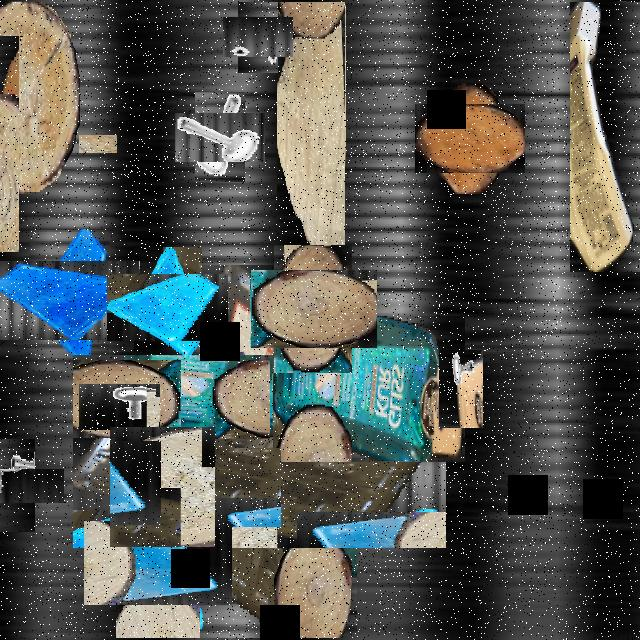glass: (100, 505, 216, 622), (154, 432, 266, 542), (14, 245, 124, 356), (121, 260, 215, 355)
metal: (185, 102, 255, 172), (87, 375, 151, 439), (439, 351, 483, 428), (0, 453, 49, 517), (230, 10, 286, 65)
plastic: (118, 310, 402, 593), (273, 316, 465, 462), (570, 2, 640, 272)
wood: (277, 2, 345, 282), (0, 2, 79, 194), (105, 430, 218, 544), (262, 258, 364, 361), (425, 94, 515, 184), (0, 85, 68, 202)
